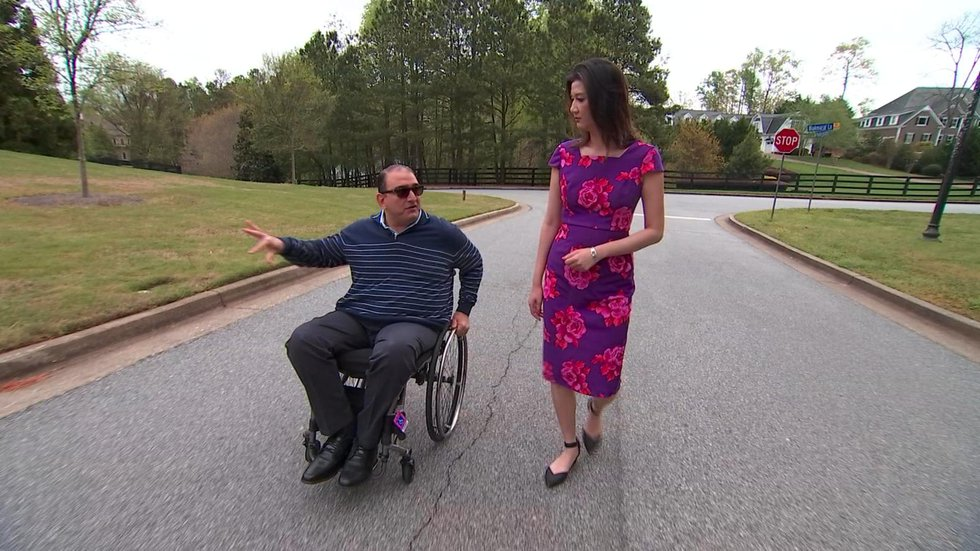wheelchair: (243, 162, 485, 488)
